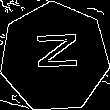N_W: (29, 36, 80, 79)
